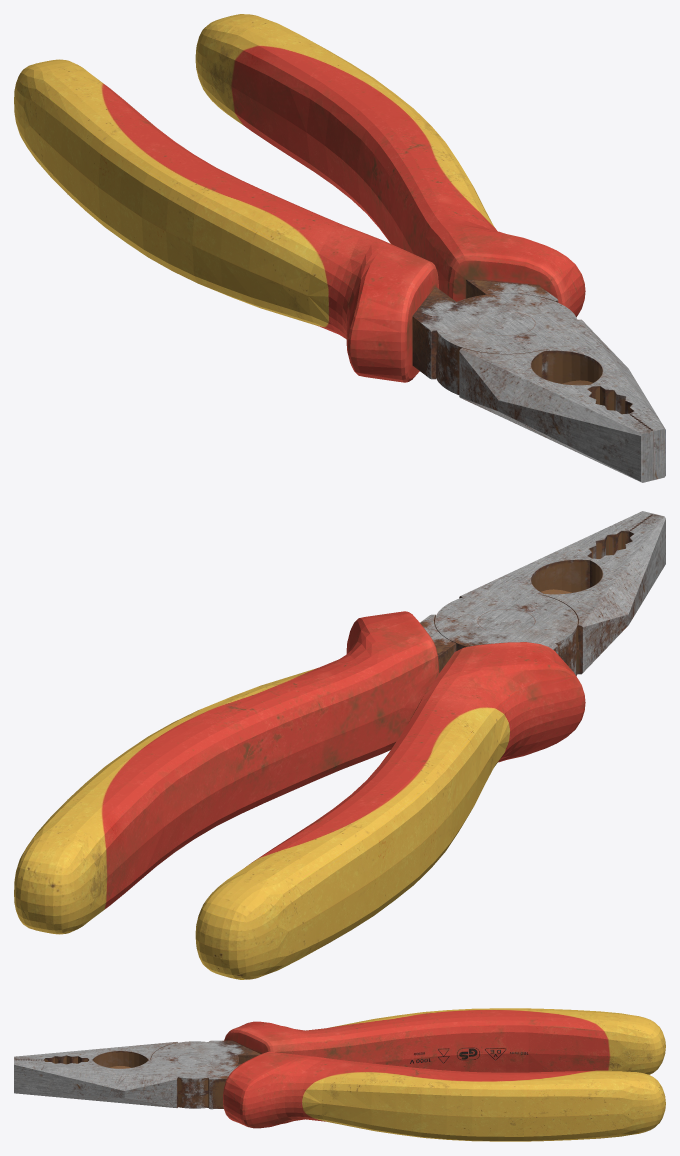
The model's file is pliers.obj.
The picture shows the model from 3 angles, top to bottom: view 1: azimuth 30°, elevation 25°; view 2: azimuth 150°, elevation 25°; view 3: azimuth 270°, elevation 25°; orthographic projection. The views are drawn at different scales.
Size of the model in its own units: 0.0584 by 0.019 by 0.19.
1 material, 1 textured.
